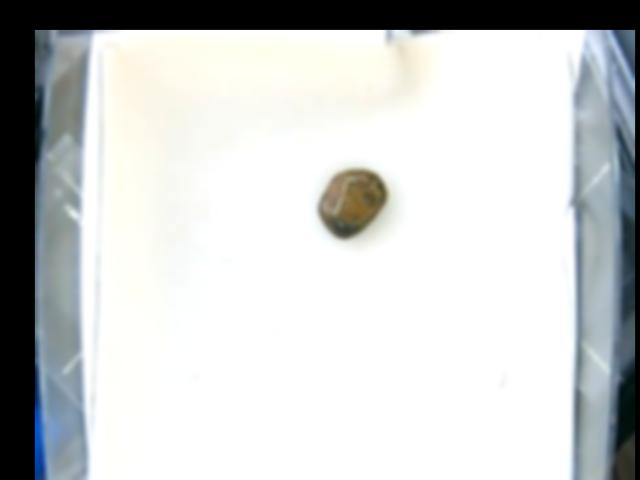Pebble: (316, 168, 387, 237)
